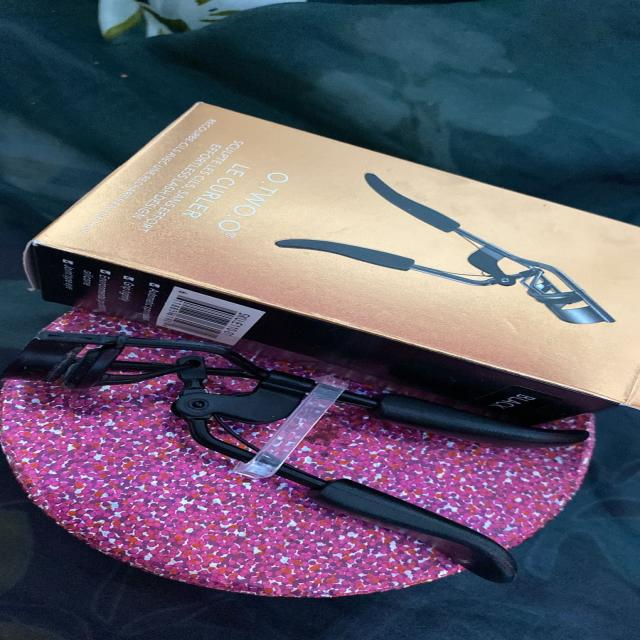eyelash curler: (0, 324, 598, 584), (275, 162, 639, 329)
